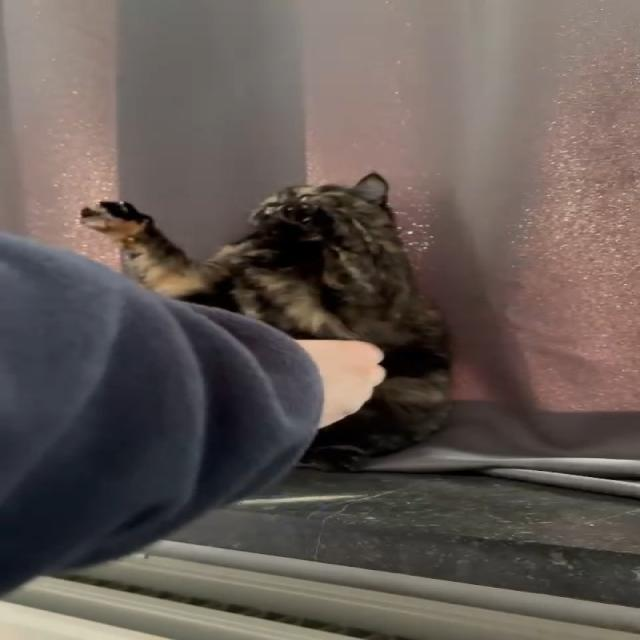authorized: (77, 170, 456, 472), (76, 199, 237, 310)
